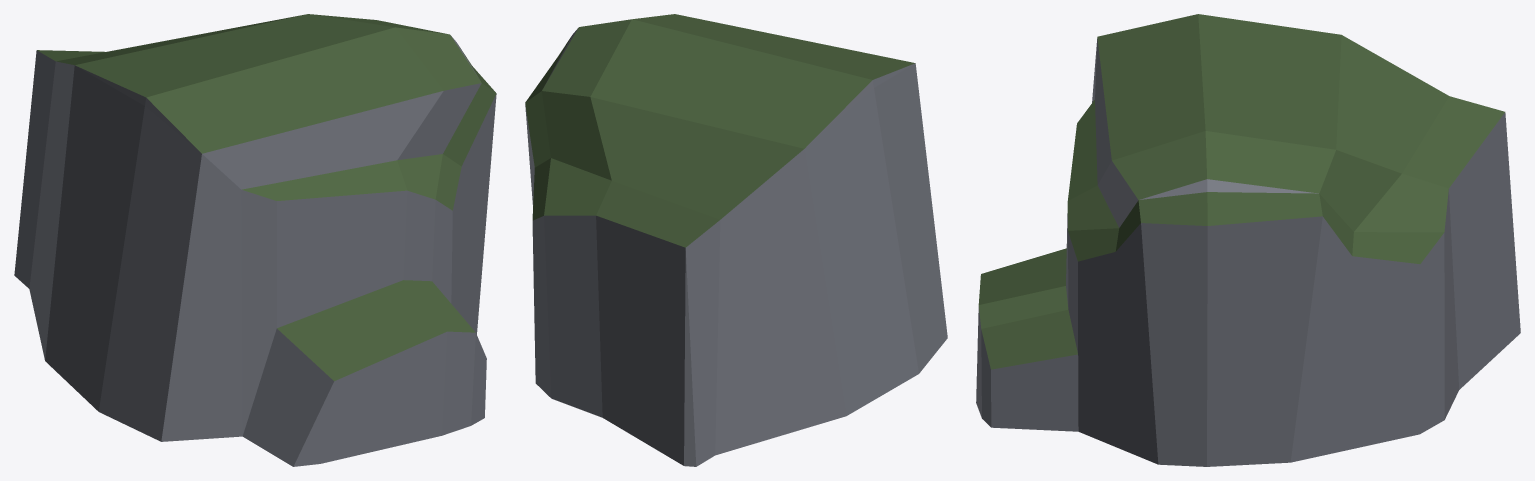
The model's file is Rock_Moss_6.gltf.
The picture shows the model from 3 angles, left to right: view 1: azimuth 30°, elevation 25°; view 2: azimuth 150°, elevation 25°; view 3: azimuth 270°, elevation 25°; orthographic projection. The views are drawn at different scales.
Visible parts, largest first — view 1: Rock_Moss_6; view 2: Rock_Moss_6; view 3: Rock_Moss_6.
Part boxes in pixels (bbox=[...]): Rock_Moss_6: bbox=[14, 14, 496, 466]; Rock_Moss_6: bbox=[525, 14, 947, 466]; Rock_Moss_6: bbox=[976, 14, 1520, 466].
Size of the model in its own units: 0.912 by 0.7078 by 1.14.
